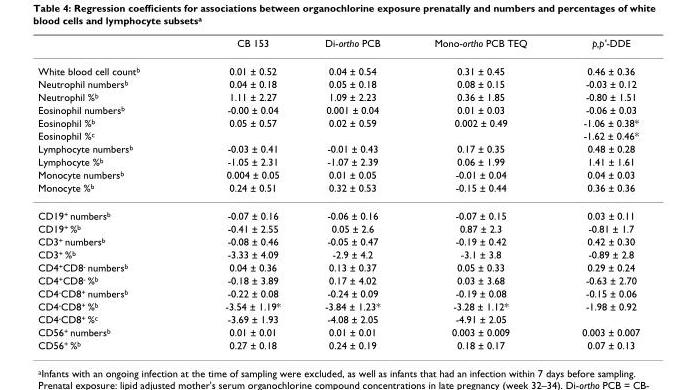table: (37, 36, 639, 350)
table column: (406, 36, 553, 350), (37, 36, 181, 350), (181, 36, 302, 350), (302, 36, 406, 350), (553, 36, 639, 350)
table column header: (37, 36, 639, 56)
table row: (37, 56, 639, 77), (37, 180, 639, 201), (37, 36, 639, 56), (37, 201, 639, 221), (37, 77, 639, 90), (37, 90, 639, 103), (37, 103, 639, 116), (37, 128, 639, 141), (37, 141, 639, 154), (37, 154, 639, 167), (37, 167, 639, 180), (37, 221, 639, 234), (37, 234, 639, 247), (37, 247, 639, 260), (37, 260, 639, 273), (37, 273, 639, 286), (37, 286, 639, 299), (37, 299, 639, 312), (37, 312, 639, 325), (37, 325, 639, 338), (37, 116, 639, 128), (37, 338, 639, 350)
